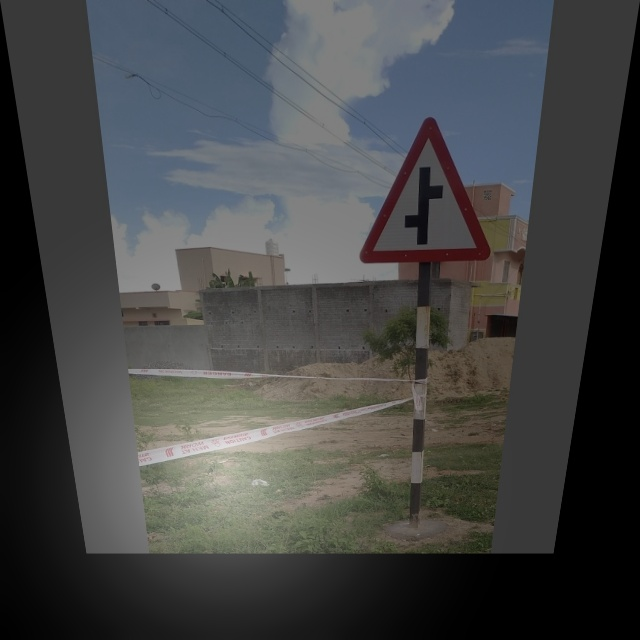Staggered_Intersection: (365, 105, 507, 262)
